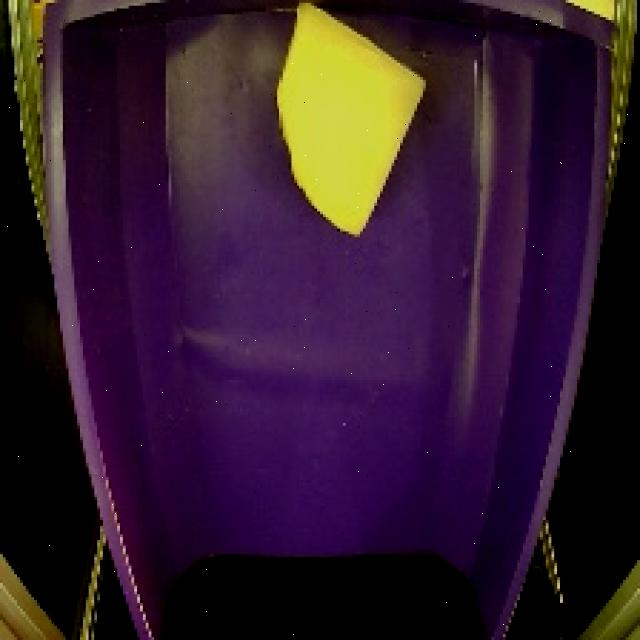potato: (271, 0, 437, 248)
